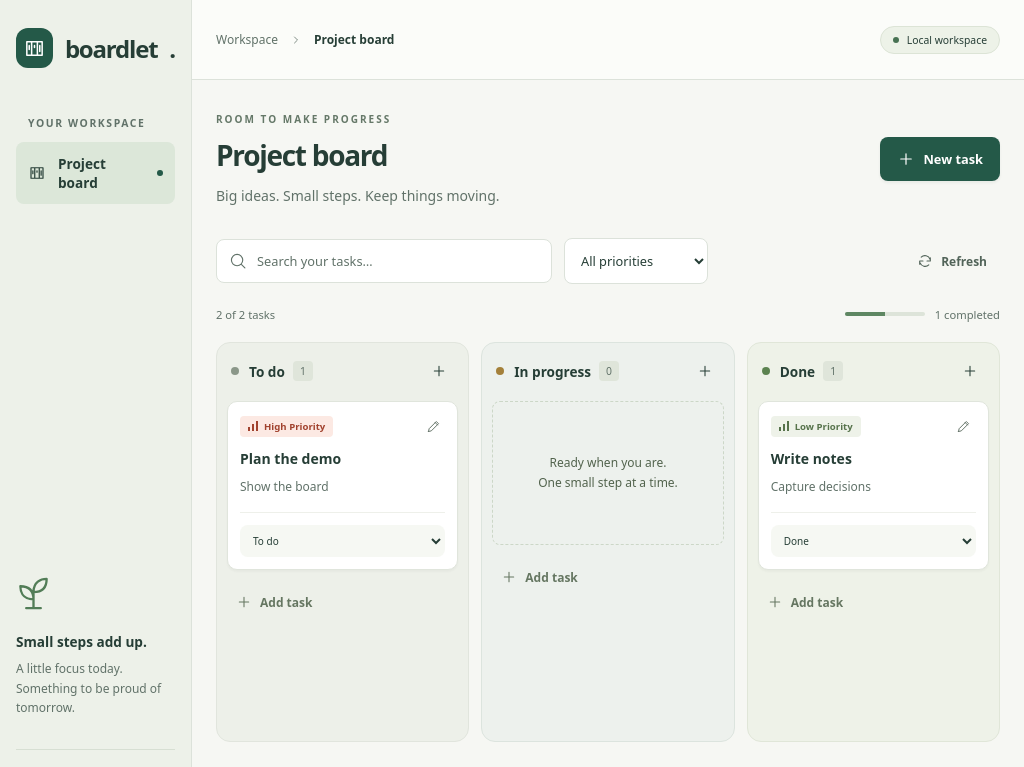
Test case: Boardlet user journeys › retains a card when deletion fails and permits retrying
The width and height of the screenshot is (1024, 767).
Expected: the heading "Plan the demo" is shown, x1=240 y1=449 x2=341 y2=468
Click the button named "Edit Plan the demo": (433, 426) x1=417 y1=410 x2=449 y2=442
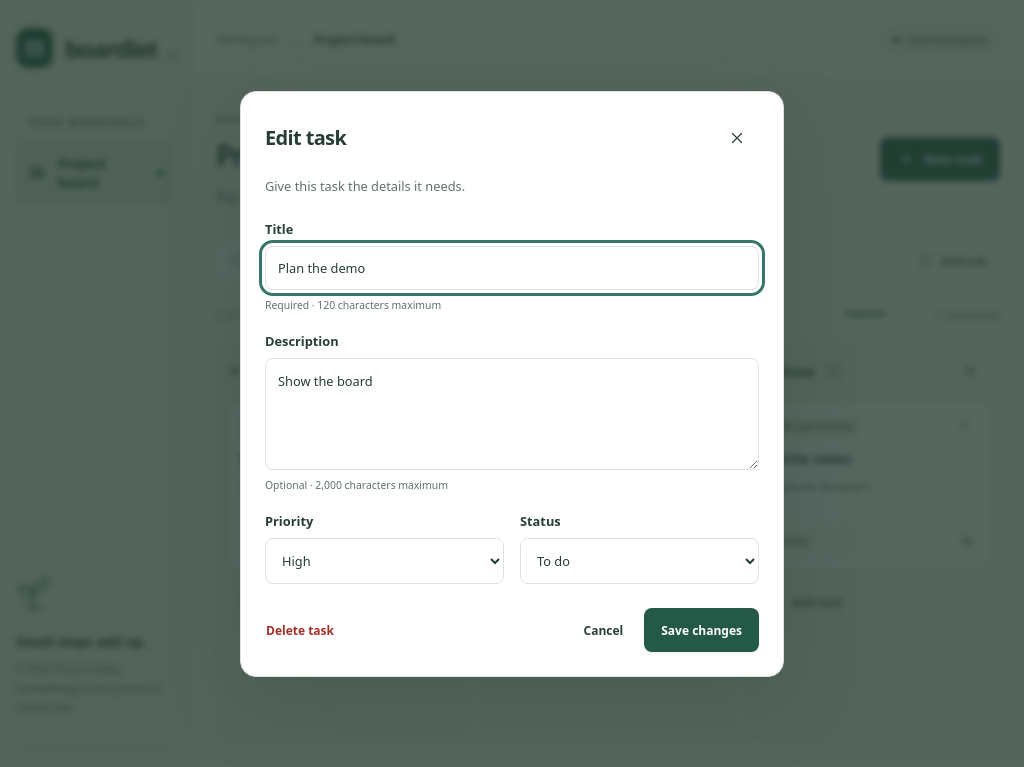
Click the button "Delete task": (300, 630) x1=265 y1=608 x2=335 y2=652
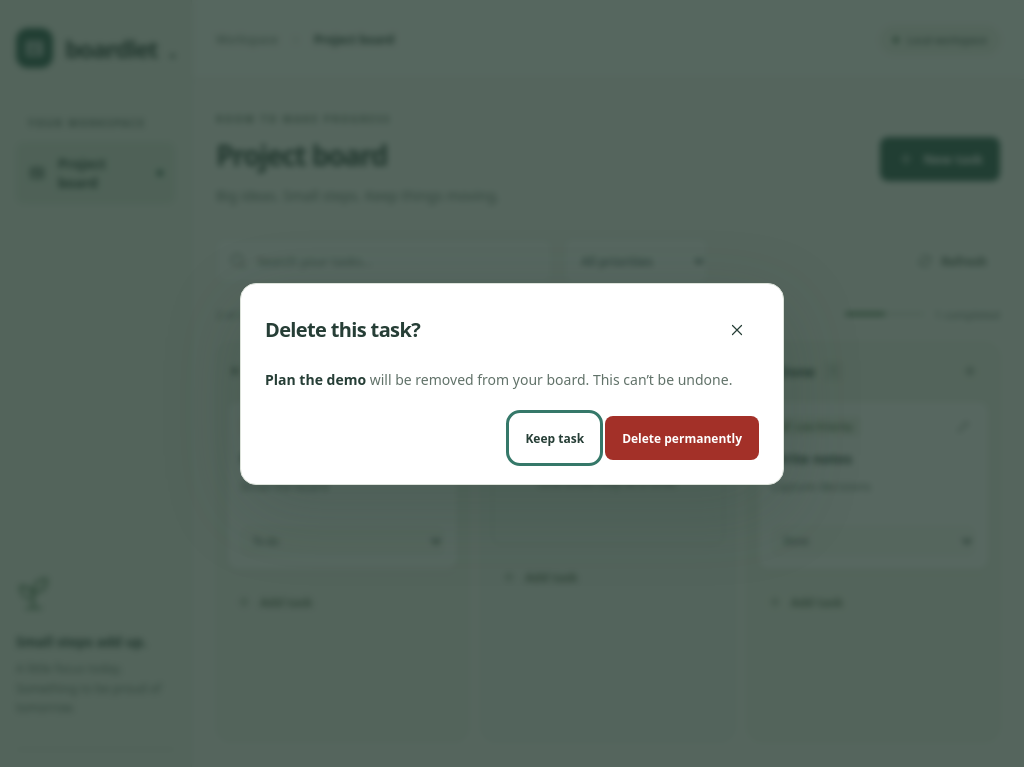
Click the button "Delete permanently": (682, 438) x1=605 y1=416 x2=759 y2=460
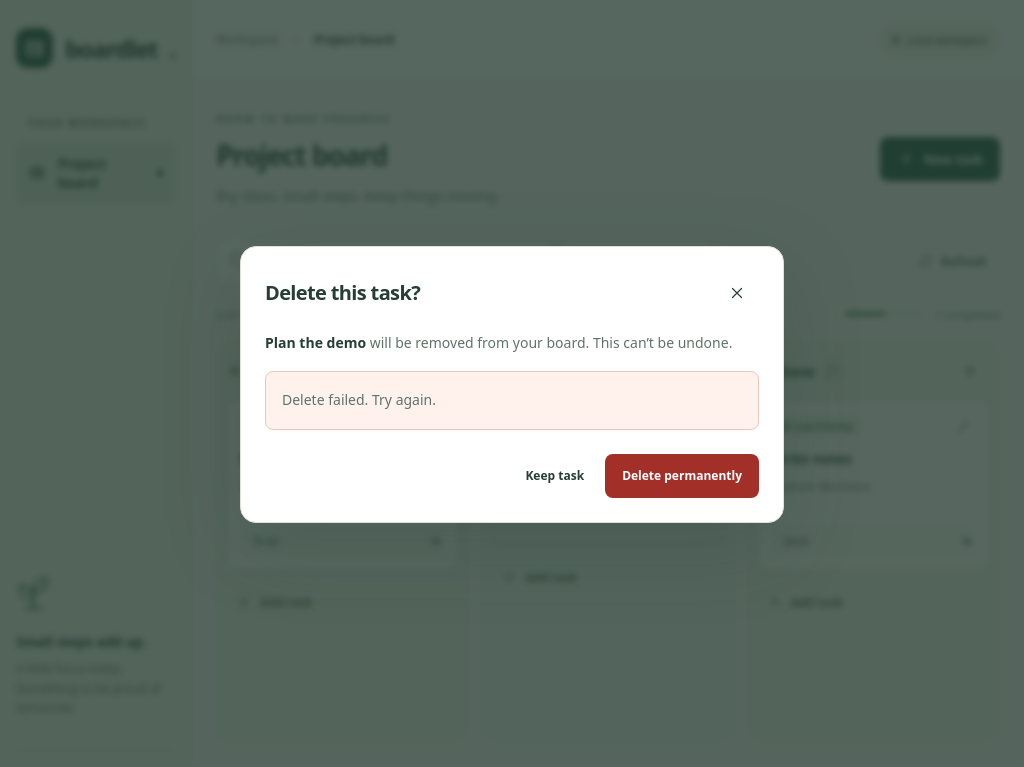
Expected: the message reads "Delete failed. Try again.", x1=282 y1=390 x2=436 y2=409
Click the button "Delete permanently": (682, 476) x1=605 y1=454 x2=759 y2=498
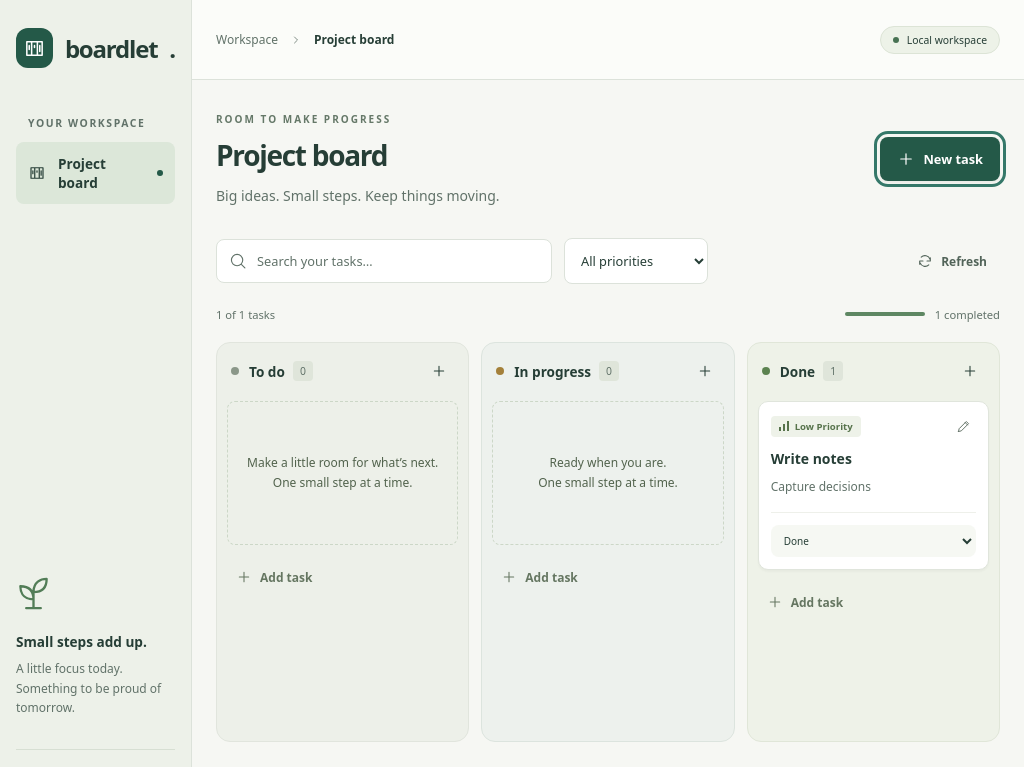
Expected: the heading "Plan the demo" is gone
